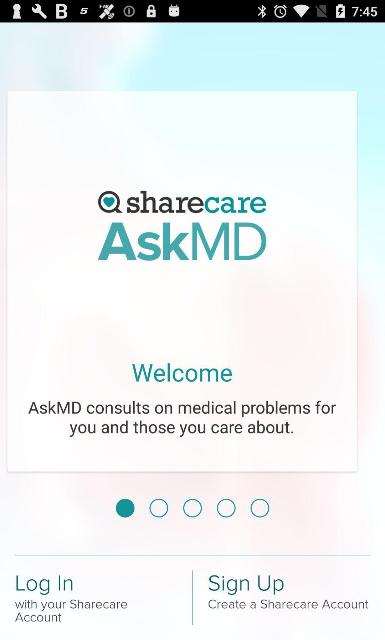Image: (97, 190, 267, 260)
PageIndicator: (115, 498, 270, 518)
Text: (28, 399, 336, 436), (15, 598, 128, 622), (132, 363, 232, 383), (208, 574, 284, 596), (208, 599, 368, 609), (16, 575, 72, 595)
UpperTaskBar: (0, 0, 384, 22)
